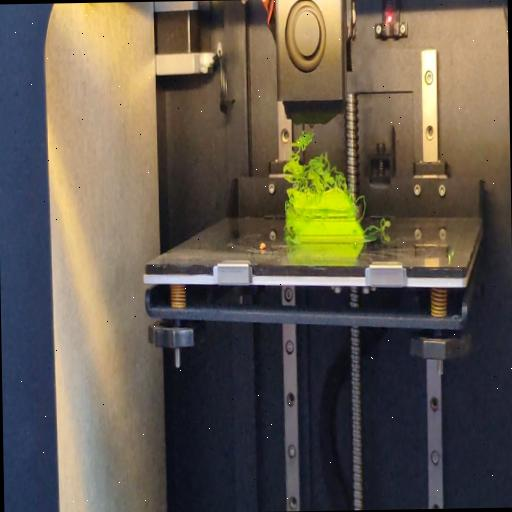spaghetti: (282, 128, 348, 199), (366, 218, 391, 234), (358, 192, 368, 223), (282, 230, 294, 244)
